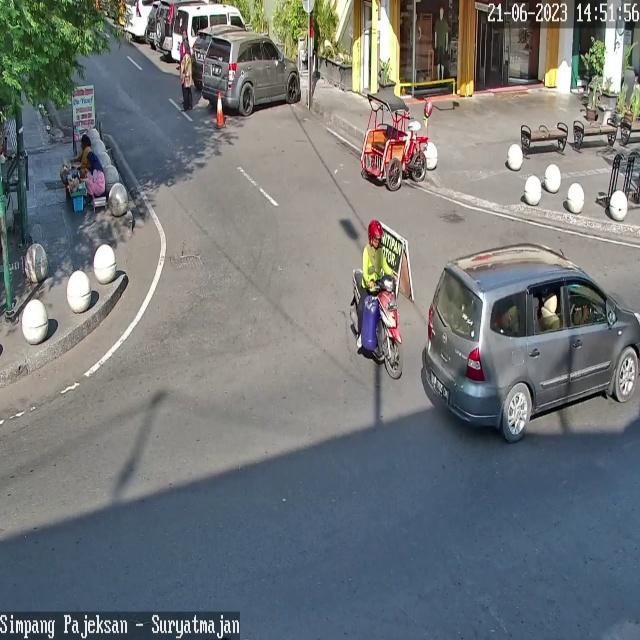bus: (351, 267, 402, 380)
motorcycle: (421, 242, 640, 443), (203, 31, 300, 115), (172, 4, 247, 64), (190, 28, 213, 83), (154, 0, 175, 54), (124, 0, 151, 35)
